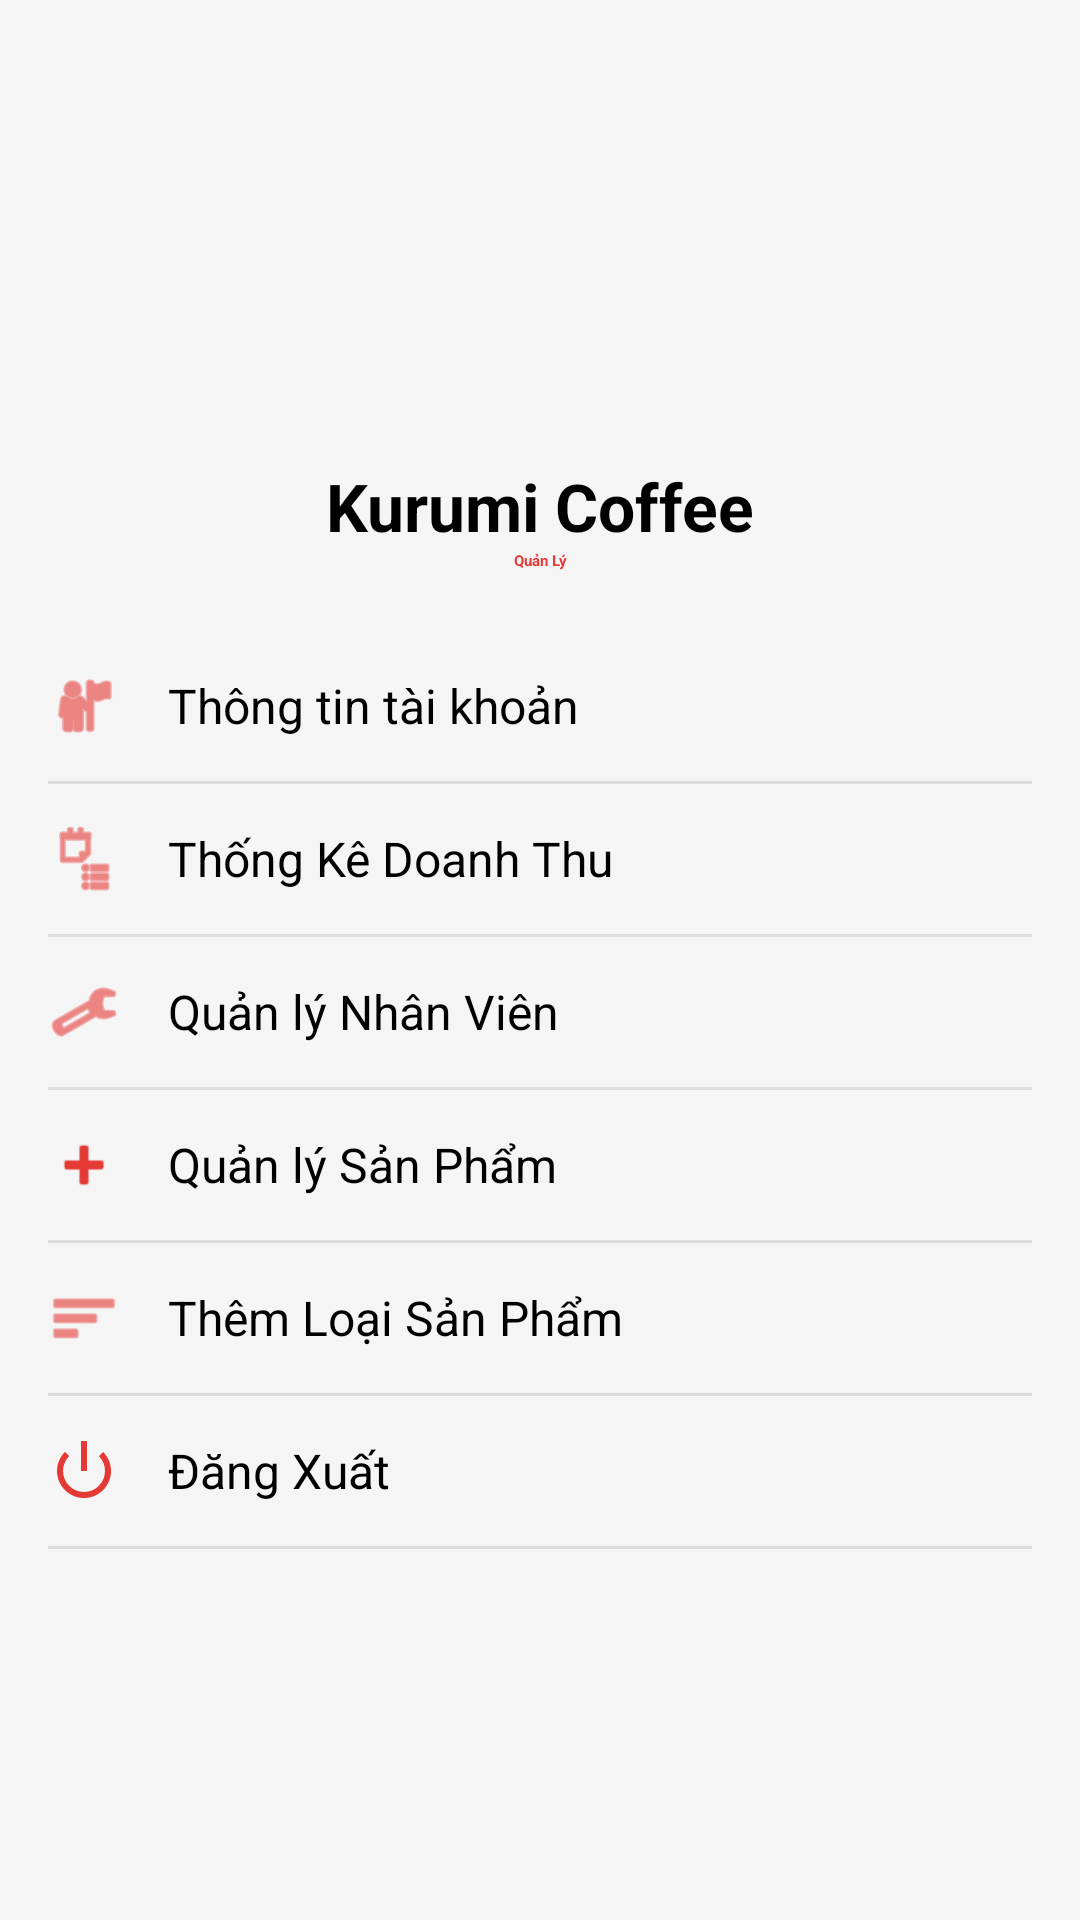

Point at icon controls on the screen. Image size 1080 × 1920, points as point (x, y).
add: point (84, 1165)
agenda: point (84, 859)
lock power off: point (84, 1469)
manage: point (84, 1012)
myplaces: point (85, 706)
sort by size: point (84, 1318)
